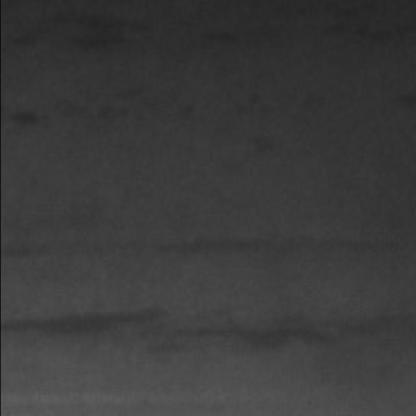inclusion: (4, 302, 412, 370), (4, 4, 210, 52), (146, 231, 322, 277)
